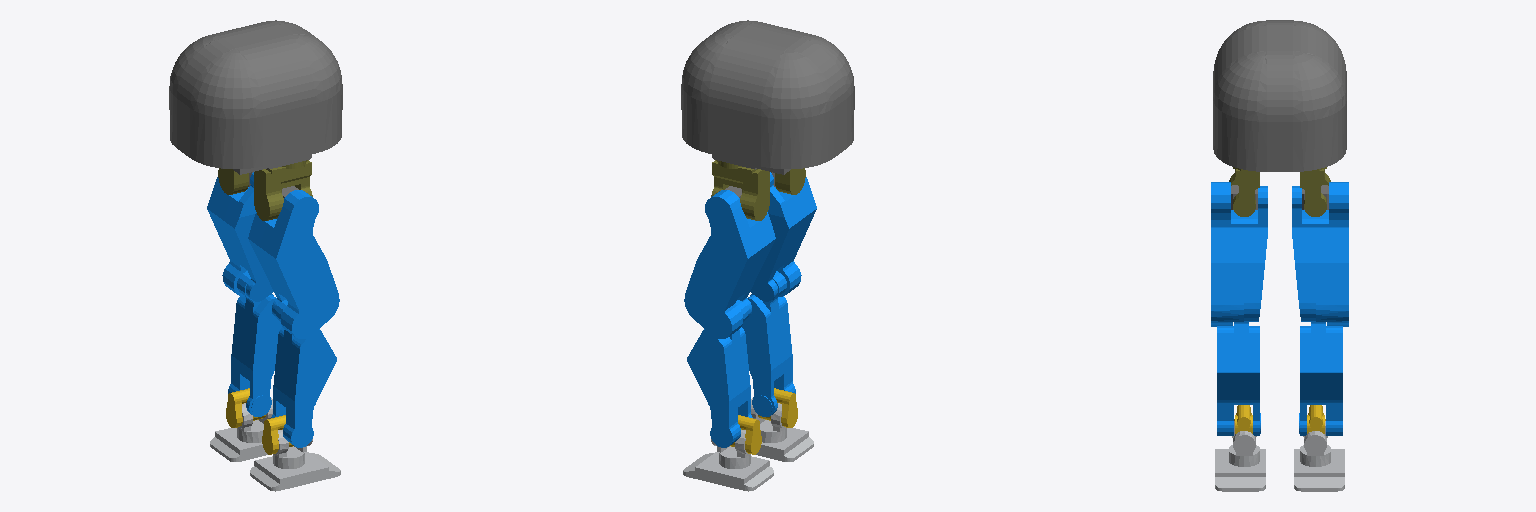
URDF robot description (CHIDORI):
<?xml version="1.0"?>
<robot name="CHIDORI"
       xmlns:xi="http://www.w3.org/2001/XInclude"
       >
  <link name="BODY">
    <visual>
      <origin xyz="0 0 1" rpy="0 -0 0"/>
      <geometry>
        <mesh filename="package://hrpsys_ros_bridge_tutorials/models/CHIDORI_meshes/BODY_mesh.dae" scale="1 1 1" />
      </geometry>
    </visual>
    <collision>
      <origin xyz="0 0 1" rpy="0 -0 0"/>
      <geometry>
        <mesh filename="package://hrpsys_ros_bridge_tutorials/models/CHIDORI_meshes/BODY_mesh.dae" scale="1 1 1" />
      </geometry>
    </collision>
    <inertial>
      <mass value="14.3177" />
      <origin xyz="-0.0394115 0.00222456 0.122654" rpy="0 -0 0"/>
      <inertia ixx="0.458867" ixy="0.005282" ixz="-0.029983" iyy="0.490286" iyz="0.00532" izz="0.311201"/>
    </inertial>
  </link>
  <gazebo reference="BODY">
    <mu1>0.9</mu1>
    <mu2>0.9</mu2>
  </gazebo>
  <link name="LLEG_LINK0">
    <visual>
      <origin xyz="0 0.1 0.0095" rpy="0 -0 0"/>
      <geometry>
        <mesh filename="package://hrpsys_ros_bridge_tutorials/models/CHIDORI_meshes/LLEG_LINK0_mesh.dae" scale="1 1 1" />
      </geometry>
    </visual>
    <collision>
      <origin xyz="0 0.1 0.0095" rpy="0 -0 0"/>
      <geometry>
        <mesh filename="package://hrpsys_ros_bridge_tutorials/models/CHIDORI_meshes/LLEG_LINK0_mesh.dae" scale="1 1 1" />
      </geometry>
    </collision>
    <inertial>
      <mass value="2.70445" />
      <origin xyz="-0.0232272 -0.00636194 -0.0791829" rpy="0 -0 0"/>
      <inertia ixx="0.025545" ixy="0.000389" ixz="0.006217" iyy="0.029606" iyz="0.000979" izz="0.007544"/>
    </inertial>
  </link>
  <gazebo reference="LLEG_LINK0">
    <mu1>0.9</mu1>
    <mu2>0.9</mu2>
  </gazebo>
  <link name="LLEG_LINK1">
    <visual>
      <origin xyz="-0.002 0 -0.135" rpy="0 -0 0"/>
      <geometry>
        <mesh filename="package://hrpsys_ros_bridge_tutorials/models/CHIDORI_meshes/LLEG_LINK1_mesh.dae" scale="1 1 1" />
      </geometry>
    </visual>
    <collision>
      <origin xyz="-0.002 0 -0.135" rpy="0 -0 0"/>
      <geometry>
        <mesh filename="package://hrpsys_ros_bridge_tutorials/models/CHIDORI_meshes/LLEG_LINK1_mesh.dae" scale="1 1 1" />
      </geometry>
    </collision>
    <inertial>
      <mass value="0.919687" />
      <origin xyz="-0.00472858 0.00492455 -4e-09" rpy="0 -0 0"/>
      <inertia ixx="0.000969" ixy="3e-06" ixz="0" iyy="0.000749" iyz="0" izz="0.001353"/>
    </inertial>
  </link>
  <gazebo reference="LLEG_LINK1">
    <mu1>0.9</mu1>
    <mu2>0.9</mu2>
  </gazebo>
  <link name="LLEG_LINK2">
    <visual>
      <origin xyz="0 0 0" rpy="0 -0 0"/>
      <geometry>
        <mesh filename="package://hrpsys_ros_bridge_tutorials/models/CHIDORI_meshes/LLEG_LINK2_mesh.dae" scale="1 1 1" />
      </geometry>
    </visual>
    <collision>
      <origin xyz="0 0 0" rpy="0 -0 0"/>
      <geometry>
        <mesh filename="package://hrpsys_ros_bridge_tutorials/models/CHIDORI_meshes/LLEG_LINK2_mesh.dae" scale="1 1 1" />
      </geometry>
    </collision>
    <inertial>
      <mass value="5.50657" />
      <origin xyz="0.00310485 0.0260996 -0.18445" rpy="0 -0 0"/>
      <inertia ixx="0.268042" ixy="-3.9e-05" ixz="-3.9e-05" iyy="0.26448" iyz="-3.9e-05" izz="0.022178"/>
    </inertial>
  </link>
  <gazebo reference="LLEG_LINK2">
    <mu1>0.9</mu1>
    <mu2>0.9</mu2>
  </gazebo>
  <link name="LLEG_LINK3">
    <visual>
      <origin xyz="0 0 -0.35" rpy="0 -0 0"/>
      <geometry>
        <mesh filename="package://hrpsys_ros_bridge_tutorials/models/CHIDORI_meshes/LLEG_LINK3_mesh.dae" scale="1 1 1" />
      </geometry>
    </visual>
    <collision>
      <origin xyz="0 0 -0.35" rpy="0 -0 0"/>
      <geometry>
        <mesh filename="package://hrpsys_ros_bridge_tutorials/models/CHIDORI_meshes/LLEG_LINK3_mesh.dae" scale="1 1 1" />
      </geometry>
    </collision>
    <inertial>
      <mass value="2.87661" />
      <origin xyz="0.0273698 0.0166011 -0.173694" rpy="0 -0 0"/>
      <inertia ixx="0.12516" ixy="0.000859" ixz="-0.009489" iyy="0.127382" iyz="-0.008796" izz="0.009192"/>
    </inertial>
  </link>
  <gazebo reference="LLEG_LINK3">
    <mu1>0.9</mu1>
    <mu2>0.9</mu2>
  </gazebo>
  <link name="LLEG_LINK4">
    <visual>
      <origin xyz="0 0 -0.35" rpy="0 -0 0"/>
      <geometry>
        <mesh filename="package://hrpsys_ros_bridge_tutorials/models/CHIDORI_meshes/LLEG_LINK4_mesh.dae" scale="1 1 1" />
      </geometry>
    </visual>
    <collision>
      <origin xyz="0 0 -0.35" rpy="0 -0 0"/>
      <geometry>
        <mesh filename="package://hrpsys_ros_bridge_tutorials/models/CHIDORI_meshes/LLEG_LINK4_mesh.dae" scale="1 1 1" />
      </geometry>
    </collision>
    <inertial>
      <mass value="0.840764" />
      <origin xyz="-0.00992223 0.00249274 -0.00685913" rpy="0 -0 0"/>
      <inertia ixx="0.000887" ixy="-1.8e-05" ixz="2.2e-05" iyy="0.001261" iyz="2e-05" izz="0.000978"/>
    </inertial>
  </link>
  <gazebo reference="LLEG_LINK4">
    <mu1>0.9</mu1>
    <mu2>0.9</mu2>
  </gazebo>
  <link name="LLEG_LINK5">
    <visual>
      <origin xyz="0 0 -0.04" rpy="0 -0 0"/>
      <geometry>
        <mesh filename="package://hrpsys_ros_bridge_tutorials/models/CHIDORI_meshes/LLEG_LINK5_mesh.dae" scale="1 1 1" />
      </geometry>
    </visual>
    <collision>
      <origin xyz="0 0 -0.04" rpy="0 -0 0"/>
      <geometry>
        <mesh filename="package://hrpsys_ros_bridge_tutorials/models/CHIDORI_meshes/LLEG_LINK5_mesh.dae" scale="1 1 1" />
      </geometry>
    </collision>
    <inertial>
      <mass value="1.8376" />
      <origin xyz="0.00160778 0.0021038 -0.0656516" rpy="0 -0 0"/>
      <inertia ixx="0.012599" ixy="5.7e-05" ixz="-0.000602" iyy="0.013954" iyz="-0.000404" izz="0.005494"/>
    </inertial>
  </link>
  <gazebo reference="LLEG_LINK5">
    <mu1>0.9</mu1>
    <mu2>0.9</mu2>
  </gazebo>
  <link name="RLEG_LINK0">
    <visual>
      <origin xyz="0 -0.1 0.0095" rpy="0 -0 0"/>
      <geometry>
        <mesh filename="package://hrpsys_ros_bridge_tutorials/models/CHIDORI_meshes/RLEG_LINK0_mesh.dae" scale="1 1 1" />
      </geometry>
    </visual>
    <collision>
      <origin xyz="0 -0.1 0.0095" rpy="0 -0 0"/>
      <geometry>
        <mesh filename="package://hrpsys_ros_bridge_tutorials/models/CHIDORI_meshes/RLEG_LINK0_mesh.dae" scale="1 1 1" />
      </geometry>
    </collision>
    <inertial>
      <mass value="2.70137" />
      <origin xyz="-0.0232979 0.00636922 -0.0791194" rpy="0 -0 0"/>
      <inertia ixx="0.025516" ixy="-0.000389" ixz="0.006233" iyy="0.029557" iyz="-0.000979" izz="0.007553"/>
    </inertial>
  </link>
  <gazebo reference="RLEG_LINK0">
    <mu1>0.9</mu1>
    <mu2>0.9</mu2>
  </gazebo>
  <link name="RLEG_LINK1">
    <visual>
      <origin xyz="-0.002 0 -0.135" rpy="0 -0 0"/>
      <geometry>
        <mesh filename="package://hrpsys_ros_bridge_tutorials/models/CHIDORI_meshes/RLEG_LINK1_mesh.dae" scale="1 1 1" />
      </geometry>
    </visual>
    <collision>
      <origin xyz="-0.002 0 -0.135" rpy="0 -0 0"/>
      <geometry>
        <mesh filename="package://hrpsys_ros_bridge_tutorials/models/CHIDORI_meshes/RLEG_LINK1_mesh.dae" scale="1 1 1" />
      </geometry>
    </collision>
    <inertial>
      <mass value="0.939505" />
      <origin xyz="-0.0051582 -0.00542379 4e-09" rpy="0 -0 0"/>
      <inertia ixx="0.001014" ixy="-3e-06" ixz="0" iyy="0.000787" iyz="0" izz="0.001419"/>
    </inertial>
  </link>
  <gazebo reference="RLEG_LINK1">
    <mu1>0.9</mu1>
    <mu2>0.9</mu2>
  </gazebo>
  <link name="RLEG_LINK2">
    <visual>
      <origin xyz="0 0 0" rpy="0 -0 0"/>
      <geometry>
        <mesh filename="package://hrpsys_ros_bridge_tutorials/models/CHIDORI_meshes/RLEG_LINK2_mesh.dae" scale="1 1 1" />
      </geometry>
    </visual>
    <collision>
      <origin xyz="0 0 0" rpy="0 -0 0"/>
      <geometry>
        <mesh filename="package://hrpsys_ros_bridge_tutorials/models/CHIDORI_meshes/RLEG_LINK2_mesh.dae" scale="1 1 1" />
      </geometry>
    </collision>
    <inertial>
      <mass value="5.50722" />
      <origin xyz="0.00310486 -0.0260835 -0.184418" rpy="0 -0 0"/>
      <inertia ixx="0.268054" ixy="3.9e-05" ixz="-0.012861" iyy="0.26452" iyz="0.024989" izz="0.02221"/>
    </inertial>
  </link>
  <gazebo reference="RLEG_LINK2">
    <mu1>0.9</mu1>
    <mu2>0.9</mu2>
  </gazebo>
  <link name="RLEG_LINK3">
    <visual>
      <origin xyz="0 0 -0.35" rpy="0 -0 0"/>
      <geometry>
        <mesh filename="package://hrpsys_ros_bridge_tutorials/models/CHIDORI_meshes/RLEG_LINK3_mesh.dae" scale="1 1 1" />
      </geometry>
    </visual>
    <collision>
      <origin xyz="0 0 -0.35" rpy="0 -0 0"/>
      <geometry>
        <mesh filename="package://hrpsys_ros_bridge_tutorials/models/CHIDORI_meshes/RLEG_LINK3_mesh.dae" scale="1 1 1" />
      </geometry>
    </collision>
    <inertial>
      <mass value="2.88639" />
      <origin xyz="0.027277 -0.0167204 -0.173091" rpy="0 -0 0"/>
      <inertia ixx="0.125176" ixy="-0.000859" ixz="-0.009489" iyy="0.127376" iyz="0.008798" izz="0.009222"/>
    </inertial>
  </link>
  <gazebo reference="RLEG_LINK3">
    <mu1>0.9</mu1>
    <mu2>0.9</mu2>
  </gazebo>
  <link name="RLEG_LINK4">
    <visual>
      <origin xyz="0 0 -0.35" rpy="0 -0 0"/>
      <geometry>
        <mesh filename="package://hrpsys_ros_bridge_tutorials/models/CHIDORI_meshes/RLEG_LINK4_mesh.dae" scale="1 1 1" />
      </geometry>
    </visual>
    <collision>
      <origin xyz="0 0 -0.35" rpy="0 -0 0"/>
      <geometry>
        <mesh filename="package://hrpsys_ros_bridge_tutorials/models/CHIDORI_meshes/RLEG_LINK4_mesh.dae" scale="1 1 1" />
      </geometry>
    </collision>
    <inertial>
      <mass value="0.840762" />
      <origin xyz="-0.00992232 -0.00249244 -0.00685907" rpy="0 -0 0"/>
      <inertia ixx="0.000887" ixy="1.8e-05" ixz="2.2e-05" iyy="0.001261" iyz="-2e-05" izz="0.000978"/>
    </inertial>
  </link>
  <gazebo reference="RLEG_LINK4">
    <mu1>0.9</mu1>
    <mu2>0.9</mu2>
  </gazebo>
  <link name="RLEG_LINK5">
    <visual>
      <origin xyz="0 0 -0.04" rpy="0 -0 0"/>
      <geometry>
        <mesh filename="package://hrpsys_ros_bridge_tutorials/models/CHIDORI_meshes/RLEG_LINK5_mesh.dae" scale="1 1 1" />
      </geometry>
    </visual>
    <collision>
      <origin xyz="0 0 -0.04" rpy="0 -0 0"/>
      <geometry>
        <mesh filename="package://hrpsys_ros_bridge_tutorials/models/CHIDORI_meshes/RLEG_LINK5_mesh.dae" scale="1 1 1" />
      </geometry>
    </collision>
    <inertial>
      <mass value="1.84943" />
      <origin xyz="0.00158469 -0.00242358 -0.0657049" rpy="0 -0 0"/>
      <inertia ixx="0.012665" ixy="-9e-05" ixz="-0.0006" iyy="0.014019" iyz="0.000444" izz="0.005494"/>
    </inertial>
  </link>
  <gazebo reference="RLEG_LINK5">
    <mu1>0.9</mu1>
    <mu2>0.9</mu2>
  </gazebo>
  <joint name="LLEG_JOINT0" type="revolute">
    <parent link="BODY"/>
    <child  link="LLEG_LINK0"/>
    <origin xyz="0 0.1 0.0095" rpy="0 -0 0 "/>
    <axis   xyz="0 0 1"/>
    <limit lower="-1.0472" upper="1.0472" effort="219.998" velocity="17.4444" />
    <dynamics damping="0.2" friction="0" />
  </joint>
  <transmission type="pr2_mechanism_model/SimpleTransmission" name="LLEG_JOINT0_trans" >
    <actuator name="LLEG_JOINT0_motor" />
    <joint name="LLEG_JOINT0" />
    <mechanicalReduction>1</mechanicalReduction>
  </transmission>
  <gazebo reference="LLEG_JOINT0">
    <cfmDamping>0.4</cfmDamping>
  </gazebo>
  <joint name="LLEG_JOINT1" type="revolute">
    <parent link="LLEG_LINK0"/>
    <child  link="LLEG_LINK1"/>
    <origin xyz="-0.002 0 -0.135" rpy="0 -0 0 "/>
    <axis   xyz="1 0 0"/>
    <limit lower="-0.523599" upper="0.785398" effort="449.998" velocity="17.4444" />
    <dynamics damping="0.2" friction="0" />
  </joint>
  <transmission type="pr2_mechanism_model/SimpleTransmission" name="LLEG_JOINT1_trans" >
    <actuator name="LLEG_JOINT1_motor" />
    <joint name="LLEG_JOINT1" />
    <mechanicalReduction>1</mechanicalReduction>
  </transmission>
  <gazebo reference="LLEG_JOINT1">
    <cfmDamping>0.4</cfmDamping>
  </gazebo>
  <joint name="LLEG_JOINT2" type="revolute">
    <parent link="LLEG_LINK1"/>
    <child  link="LLEG_LINK2"/>
    <origin xyz="0 0 0" rpy="0 -0 0 "/>
    <axis   xyz="0 1 0"/>
    <limit lower="-2.18166" upper="0.785398" effort="449.998" velocity="17.4444" />
    <dynamics damping="0.2" friction="0" />
  </joint>
  <transmission type="pr2_mechanism_model/SimpleTransmission" name="LLEG_JOINT2_trans" >
    <actuator name="LLEG_JOINT2_motor" />
    <joint name="LLEG_JOINT2" />
    <mechanicalReduction>1</mechanicalReduction>
  </transmission>
  <gazebo reference="LLEG_JOINT2">
    <cfmDamping>0.4</cfmDamping>
  </gazebo>
  <joint name="LLEG_JOINT3" type="revolute">
    <parent link="LLEG_LINK2"/>
    <child  link="LLEG_LINK3"/>
    <origin xyz="0 0 -0.35" rpy="0 -0 0 "/>
    <axis   xyz="0 1 0"/>
    <limit lower="0" upper="2.53073" effort="449.998" velocity="17.4444" />
    <dynamics damping="0.2" friction="0" />
  </joint>
  <transmission type="pr2_mechanism_model/SimpleTransmission" name="LLEG_JOINT3_trans" >
    <actuator name="LLEG_JOINT3_motor" />
    <joint name="LLEG_JOINT3" />
    <mechanicalReduction>1</mechanicalReduction>
  </transmission>
  <gazebo reference="LLEG_JOINT3">
    <cfmDamping>0.4</cfmDamping>
  </gazebo>
  <joint name="LLEG_JOINT4" type="revolute">
    <parent link="LLEG_LINK3"/>
    <child  link="LLEG_LINK4"/>
    <origin xyz="0 0 -0.35" rpy="0 -0 0 "/>
    <axis   xyz="0 1 0"/>
    <limit lower="-1.5708" upper="1.5708" effort="219.998" velocity="17.4444" />
    <dynamics damping="0.2" friction="0" />
  </joint>
  <transmission type="pr2_mechanism_model/SimpleTransmission" name="LLEG_JOINT4_trans" >
    <actuator name="LLEG_JOINT4_motor" />
    <joint name="LLEG_JOINT4" />
    <mechanicalReduction>1</mechanicalReduction>
  </transmission>
  <gazebo reference="LLEG_JOINT4">
    <cfmDamping>0.4</cfmDamping>
  </gazebo>
  <joint name="LLEG_JOINT5" type="revolute">
    <parent link="LLEG_LINK4"/>
    <child  link="LLEG_LINK5"/>
    <origin xyz="0 0 -0.04" rpy="0 -0 0 "/>
    <axis   xyz="1 0 0"/>
    <limit lower="-1.0472" upper="1.0472" effort="220.457" velocity="17.4444" />
    <dynamics damping="0.2" friction="0" />
  </joint>
  <transmission type="pr2_mechanism_model/SimpleTransmission" name="LLEG_JOINT5_trans" >
    <actuator name="LLEG_JOINT5_motor" />
    <joint name="LLEG_JOINT5" />
    <mechanicalReduction>1</mechanicalReduction>
  </transmission>
  <gazebo reference="LLEG_JOINT5">
    <cfmDamping>0.4</cfmDamping>
  </gazebo>
  <joint name="RLEG_JOINT0" type="revolute">
    <parent link="BODY"/>
    <child  link="RLEG_LINK0"/>
    <origin xyz="0 -0.1 0.0095" rpy="0 -0 0 "/>
    <axis   xyz="0 0 1"/>
    <limit lower="-1.0472" upper="1.0472" effort="219.998" velocity="17.4444" />
    <dynamics damping="0.2" friction="0" />
  </joint>
  <transmission type="pr2_mechanism_model/SimpleTransmission" name="RLEG_JOINT0_trans" >
    <actuator name="RLEG_JOINT0_motor" />
    <joint name="RLEG_JOINT0" />
    <mechanicalReduction>1</mechanicalReduction>
  </transmission>
  <gazebo reference="RLEG_JOINT0">
    <cfmDamping>0.4</cfmDamping>
  </gazebo>
  <joint name="RLEG_JOINT1" type="revolute">
    <parent link="RLEG_LINK0"/>
    <child  link="RLEG_LINK1"/>
    <origin xyz="-0.002 0 -0.135" rpy="0 -0 0 "/>
    <axis   xyz="1 0 0"/>
    <limit lower="-0.785398" upper="0.523599" effort="449.998" velocity="17.4444" />
    <dynamics damping="0.2" friction="0" />
  </joint>
  <transmission type="pr2_mechanism_model/SimpleTransmission" name="RLEG_JOINT1_trans" >
    <actuator name="RLEG_JOINT1_motor" />
    <joint name="RLEG_JOINT1" />
    <mechanicalReduction>1</mechanicalReduction>
  </transmission>
  <gazebo reference="RLEG_JOINT1">
    <cfmDamping>0.4</cfmDamping>
  </gazebo>
  <joint name="RLEG_JOINT2" type="revolute">
    <parent link="RLEG_LINK1"/>
    <child  link="RLEG_LINK2"/>
    <origin xyz="0 0 0" rpy="0 -0 0 "/>
    <axis   xyz="0 1 0"/>
    <limit lower="-2.0944" upper="0.785398" effort="449.998" velocity="17.4444" />
    <dynamics damping="0.2" friction="0" />
  </joint>
  <transmission type="pr2_mechanism_model/SimpleTransmission" name="RLEG_JOINT2_trans" >
    <actuator name="RLEG_JOINT2_motor" />
    <joint name="RLEG_JOINT2" />
    <mechanicalReduction>1</mechanicalReduction>
  </transmission>
  <gazebo reference="RLEG_JOINT2">
    <cfmDamping>0.4</cfmDamping>
  </gazebo>
  <joint name="RLEG_JOINT3" type="revolute">
    <parent link="RLEG_LINK2"/>
    <child  link="RLEG_LINK3"/>
    <origin xyz="0 0 -0.35" rpy="0 -0 0 "/>
    <axis   xyz="0 1 0"/>
    <limit lower="0" upper="2.53073" effort="449.998" velocity="17.4444" />
    <dynamics damping="0.2" friction="0" />
  </joint>
  <transmission type="pr2_mechanism_model/SimpleTransmission" name="RLEG_JOINT3_trans" >
    <actuator name="RLEG_JOINT3_motor" />
    <joint name="RLEG_JOINT3" />
    <mechanicalReduction>1</mechanicalReduction>
  </transmission>
  <gazebo reference="RLEG_JOINT3">
    <cfmDamping>0.4</cfmDamping>
  </gazebo>
  <joint name="RLEG_JOINT4" type="revolute">
    <parent link="RLEG_LINK3"/>
    <child  link="RLEG_LINK4"/>
    <origin xyz="0 0 -0.35" rpy="0 -0 0 "/>
    <axis   xyz="0 1 0"/>
    <limit lower="-1.5708" upper="1.5708" effort="219.998" velocity="17.4444" />
    <dynamics damping="0.2" friction="0" />
  </joint>
  <transmission type="pr2_mechanism_model/SimpleTransmission" name="RLEG_JOINT4_trans" >
    <actuator name="RLEG_JOINT4_motor" />
    <joint name="RLEG_JOINT4" />
    <mechanicalReduction>1</mechanicalReduction>
  </transmission>
  <gazebo reference="RLEG_JOINT4">
    <cfmDamping>0.4</cfmDamping>
  </gazebo>
  <joint name="RLEG_JOINT5" type="revolute">
    <parent link="RLEG_LINK4"/>
    <child  link="RLEG_LINK5"/>
    <origin xyz="0 0 -0.04" rpy="0 -0 0 "/>
    <axis   xyz="1 0 0"/>
    <limit lower="-1.0472" upper="1.0472" effort="220.457" velocity="17.4444" />
    <dynamics damping="0.2" friction="0" />
  </joint>
  <transmission type="pr2_mechanism_model/SimpleTransmission" name="RLEG_JOINT5_trans" >
    <actuator name="RLEG_JOINT5_motor" />
    <joint name="RLEG_JOINT5" />
    <mechanicalReduction>1</mechanicalReduction>
  </transmission>
  <gazebo reference="RLEG_JOINT5">
    <cfmDamping>0.4</cfmDamping>
  </gazebo>
</robot>

--- Render facts (derived) ---
Views: 3 orthographic renders of the robot side by side, from view 1: azimuth 30°, elevation 25°; view 2: azimuth 150°, elevation 25°; view 3: azimuth 270°, elevation 25°.
Robot: CHIDORI — 13 links, 12 joints (12 revolute); root link BODY; default pose: every joint at zero.
Visible links, largest first — view 1: BODY, RLEG_LINK2, RLEG_LINK3, LLEG_LINK3, LLEG_LINK2, RLEG_LINK5, RLEG_LINK0, LLEG_LINK5, LLEG_LINK4, RLEG_LINK4, LLEG_LINK0; view 2: BODY, LLEG_LINK2, LLEG_LINK3, RLEG_LINK3, RLEG_LINK2, LLEG_LINK5, LLEG_LINK0, RLEG_LINK5, RLEG_LINK4, LLEG_LINK4, RLEG_LINK0; view 3: BODY, LLEG_LINK2, RLEG_LINK2, LLEG_LINK3, RLEG_LINK3, LLEG_LINK5, RLEG_LINK5, LLEG_LINK0, RLEG_LINK0.
Boxes of the visible links, x1,y1,x2,y2 form: BODY: (169, 20, 342, 174); RLEG_LINK2: (248, 190, 339, 338); RLEG_LINK3: (271, 300, 336, 447); LLEG_LINK3: (228, 271, 281, 416); LLEG_LINK2: (207, 172, 273, 301); RLEG_LINK5: (250, 430, 340, 491); RLEG_LINK0: (254, 160, 312, 220); LLEG_LINK5: (210, 398, 272, 461); LLEG_LINK4: (226, 388, 265, 427); RLEG_LINK4: (262, 415, 293, 454); LLEG_LINK0: (218, 168, 248, 194); BODY: (681, 20, 854, 174); LLEG_LINK2: (684, 190, 775, 338); LLEG_LINK3: (687, 300, 752, 447); RLEG_LINK3: (742, 271, 795, 416); RLEG_LINK2: (750, 172, 816, 301); LLEG_LINK5: (683, 430, 773, 491); LLEG_LINK0: (711, 160, 769, 220); RLEG_LINK5: (751, 398, 813, 461); RLEG_LINK4: (758, 388, 797, 427); LLEG_LINK4: (730, 415, 761, 454); RLEG_LINK0: (775, 168, 805, 194); BODY: (1213, 20, 1346, 171); LLEG_LINK2: (1292, 182, 1348, 326); RLEG_LINK2: (1211, 182, 1267, 326); LLEG_LINK3: (1299, 321, 1342, 435); RLEG_LINK3: (1217, 321, 1260, 435); LLEG_LINK5: (1294, 421, 1344, 491); RLEG_LINK5: (1215, 421, 1265, 491); LLEG_LINK0: (1300, 167, 1330, 216); RLEG_LINK0: (1229, 167, 1259, 216).
Bounding box of the posed robot: 0.47 × 0.388 × 1.32 m (x, y, z).
Meshes: 13 distinct files referenced, 13 mesh visuals loaded (13 Collada DAE).